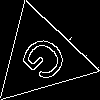G: (17, 32, 78, 92)
